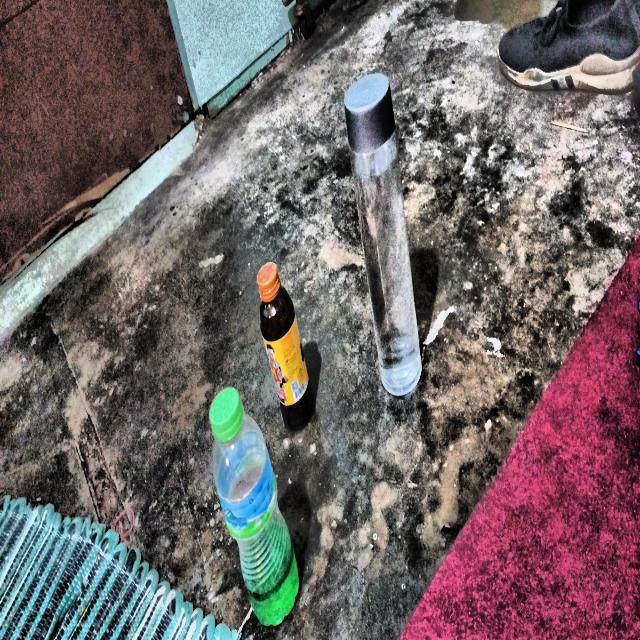Bottle: (341, 65, 425, 398), (208, 384, 300, 627), (256, 259, 316, 431)
